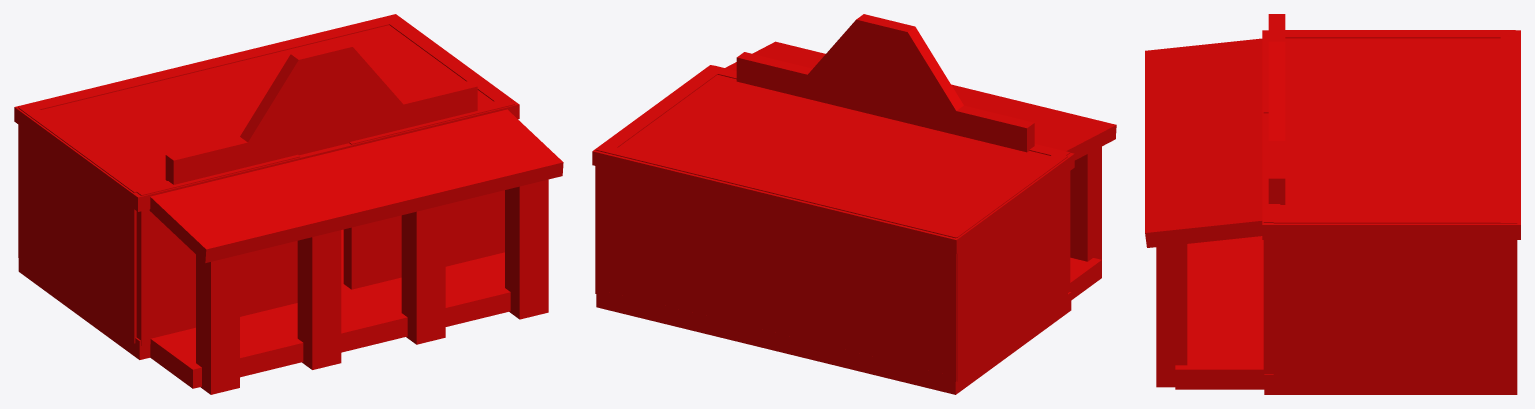
File: SM_Bld_Mexican_02_Collision.fbx
3 views of the same model, side by side, from view 1: azimuth 30°, elevation 25°; view 2: azimuth 150°, elevation 25°; view 3: azimuth 270°, elevation 25° (orthographic). The views are drawn at different scales.
Visible parts, largest first — view 1: SM_Bld_Mexican_02_Collision; view 2: SM_Bld_Mexican_02_Collision; view 3: SM_Bld_Mexican_02_Collision.
Part boxes in pixels (box(x1,y1,x2,y2)): SM_Bld_Mexican_02_Collision: box(14, 14, 563, 394); SM_Bld_Mexican_02_Collision: box(592, 14, 1116, 394); SM_Bld_Mexican_02_Collision: box(1145, 14, 1520, 394).
Bounding box in the file's own units: 914 × 598 × 746.
